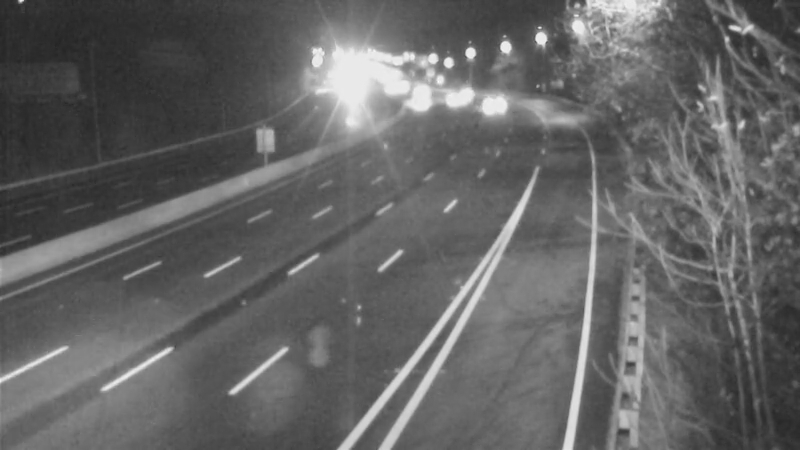vehicle: (366, 63, 416, 113), (398, 67, 448, 117), (438, 68, 488, 118), (426, 73, 476, 123), (398, 80, 448, 130), (469, 83, 519, 133)
